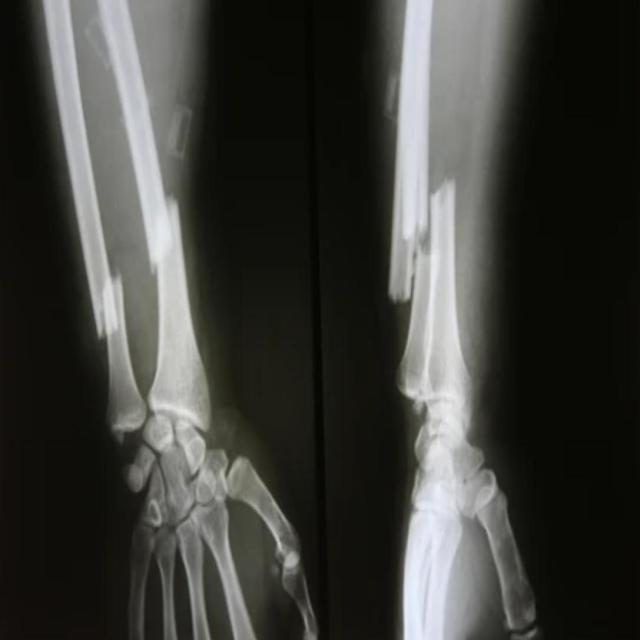bone: (379, 158, 462, 316), (146, 186, 185, 292), (91, 260, 127, 362)
